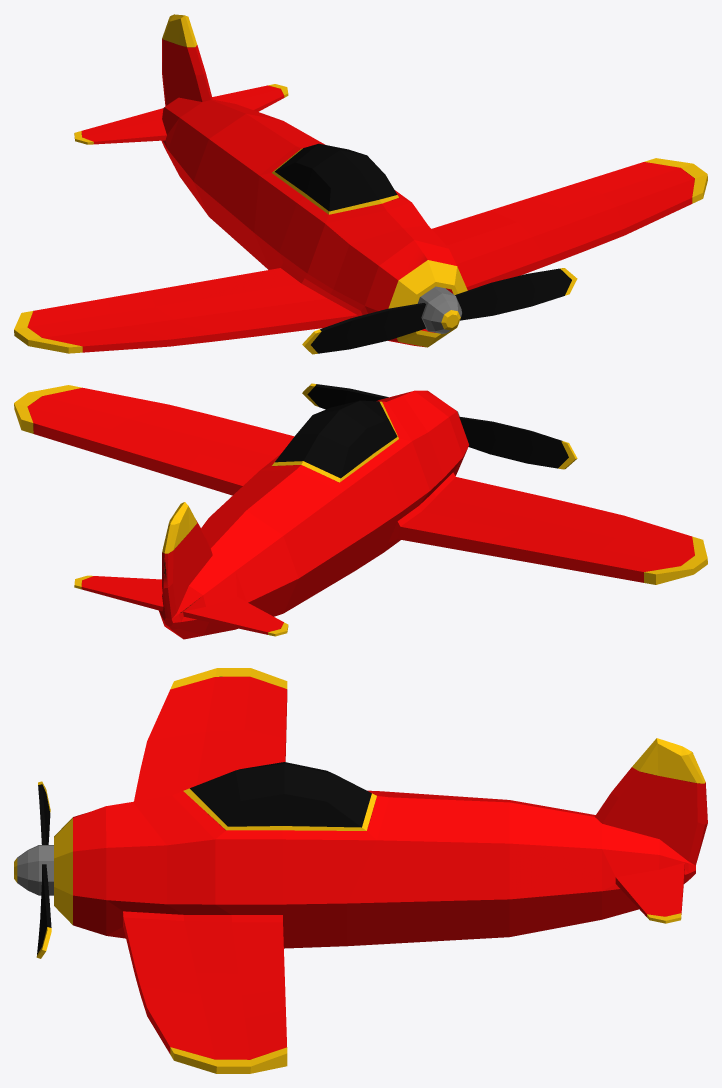
File: incoming-plane-red.glb
3 views of the same model, one above another, from view 1: azimuth 30°, elevation 25°; view 2: azimuth 150°, elevation 25°; view 3: azimuth 270°, elevation 25° (orthographic). The views are drawn at different scales.
Parts seen in each view (by area): view 1: Fuselagem, Helice; view 2: Fuselagem, Helice; view 3: Fuselagem, Helice.
Part boxes in pixels (left/top/right/bottom): Fuselagem: left=14, top=14, right=707, bottom=353; Helice: left=302, top=268, right=577, bottom=354; Fuselagem: left=14, top=385, right=707, bottom=639; Helice: left=302, top=383, right=577, bottom=469; Fuselagem: left=54, top=668, right=707, bottom=1073; Helice: left=14, top=781, right=53, bottom=958.
Size of the model in its own units: 12.92 by 3.14 by 9.51.
Materials: 4 (1 with a texture image).
